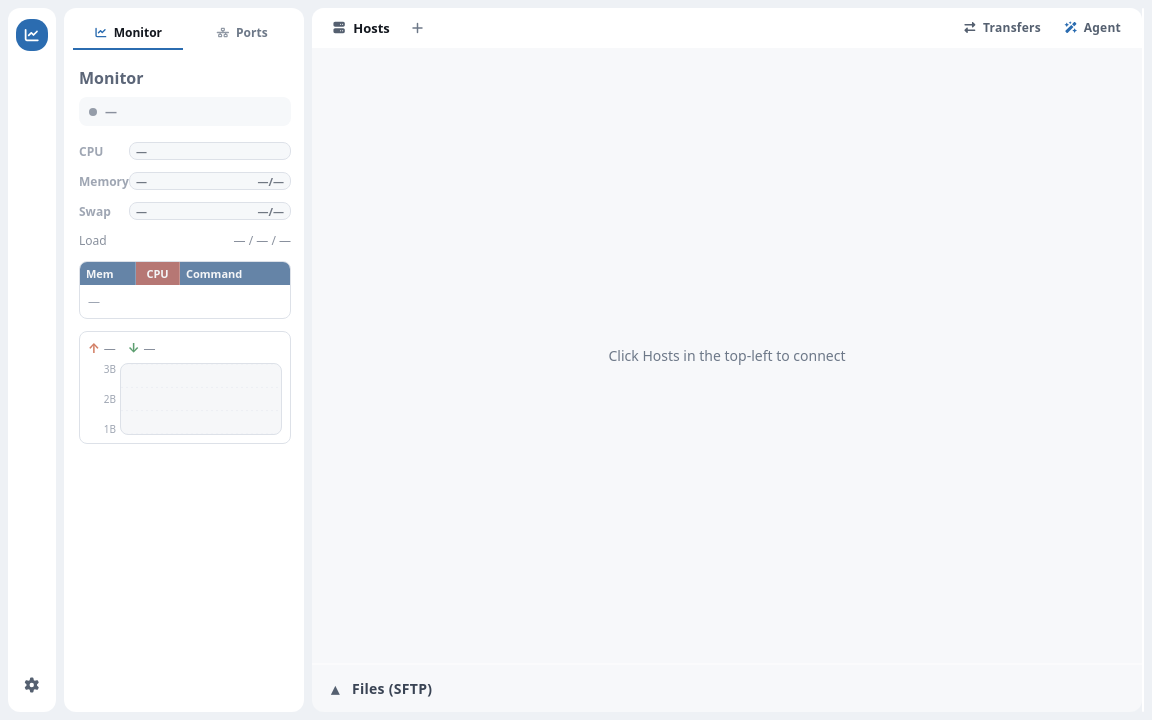
it: Session Terminal Persistence › routes background output to inactive session terminal instance
Step 1. Click the button "Hosts" → (360, 28), box [320, 12, 401, 42]
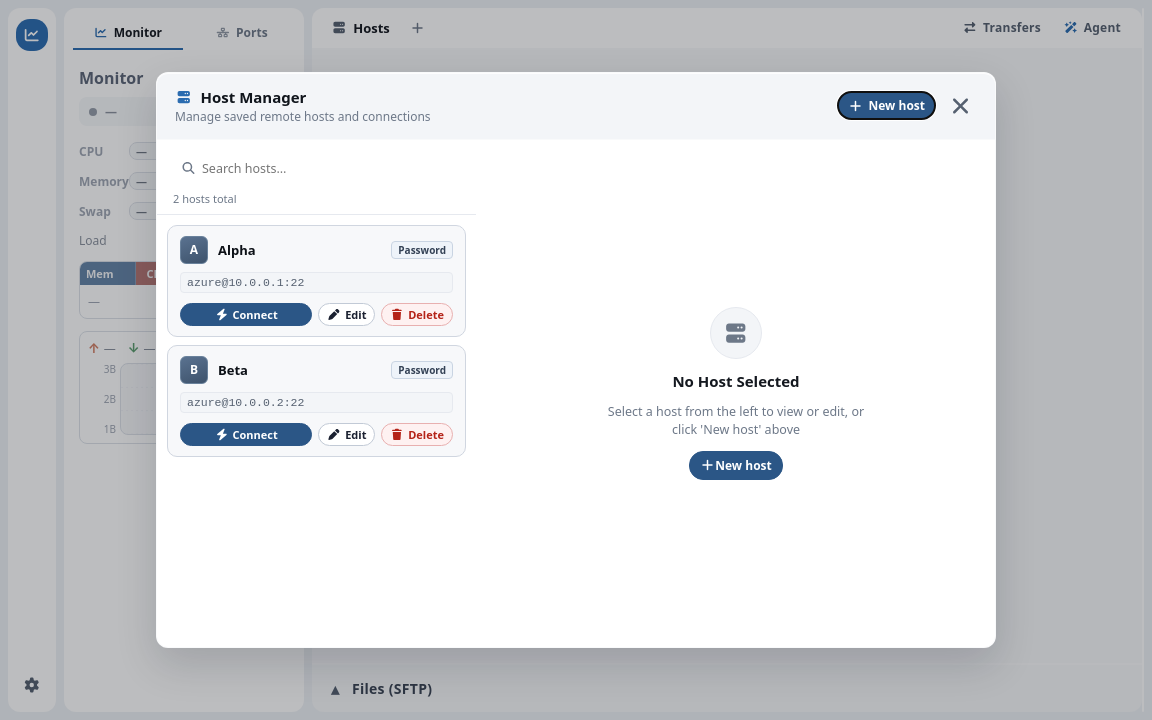
Step 2. Click the button "Connect" below "Alpha" → (246, 314), box [180, 303, 312, 326]
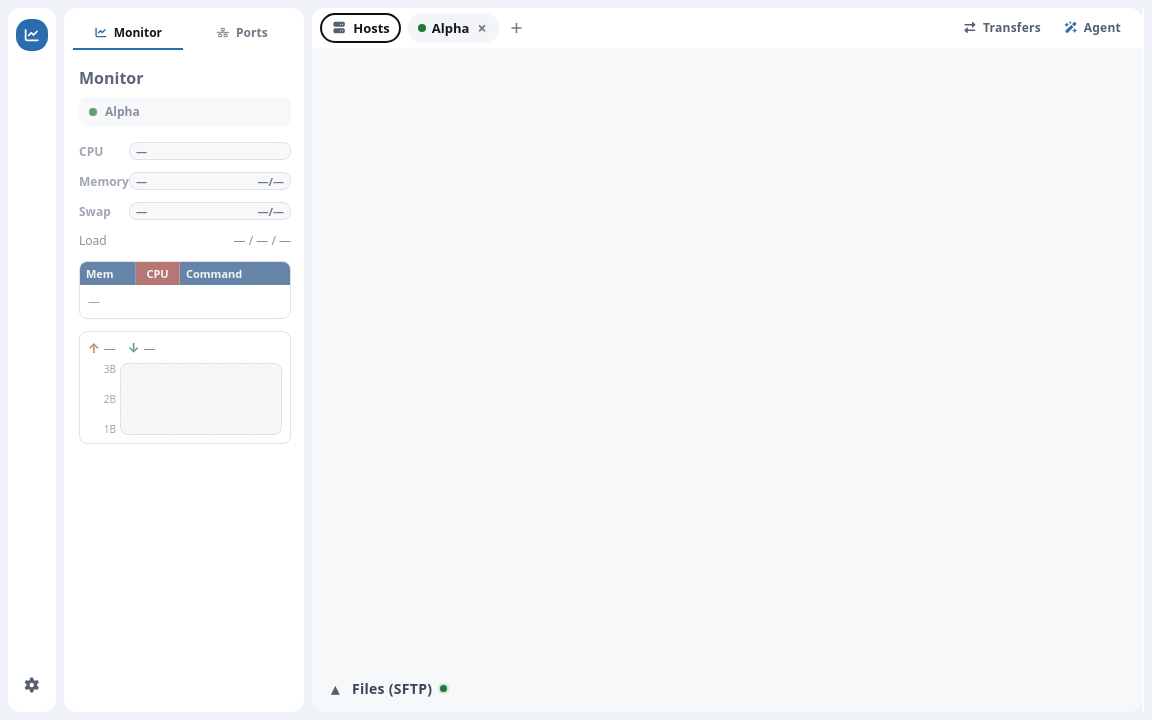
Expected: the tab "Alpha ×" is shown, [407, 12, 500, 42]
Step 3. Click the button "Hosts" → (360, 28), box [320, 12, 401, 42]
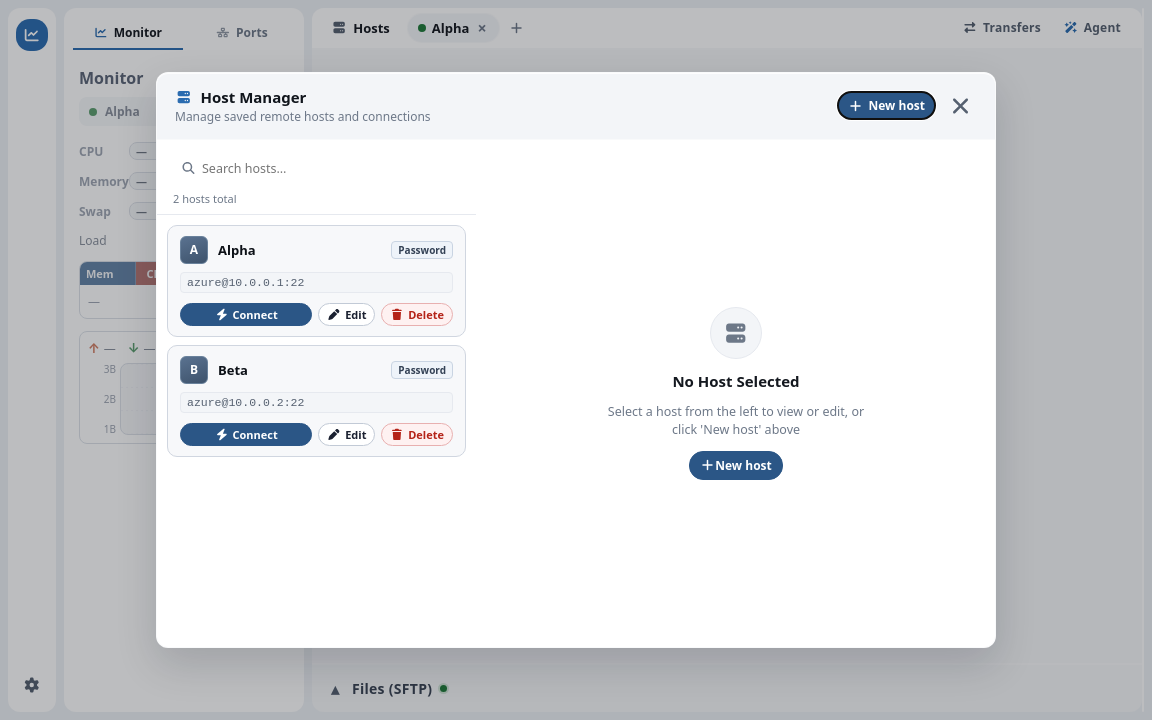
Step 4. Click the button "Connect" below "Beta" → (246, 434), box [180, 423, 312, 446]
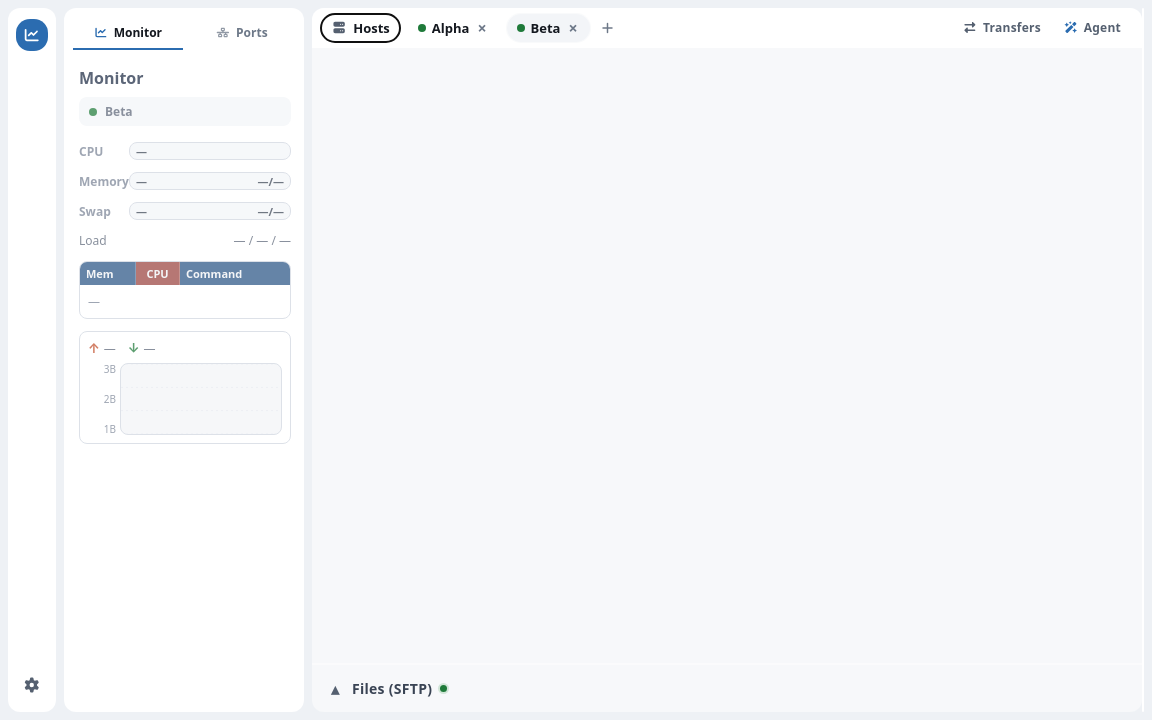
Expected: the tab "Beta ×" is shown, [506, 12, 591, 42]
